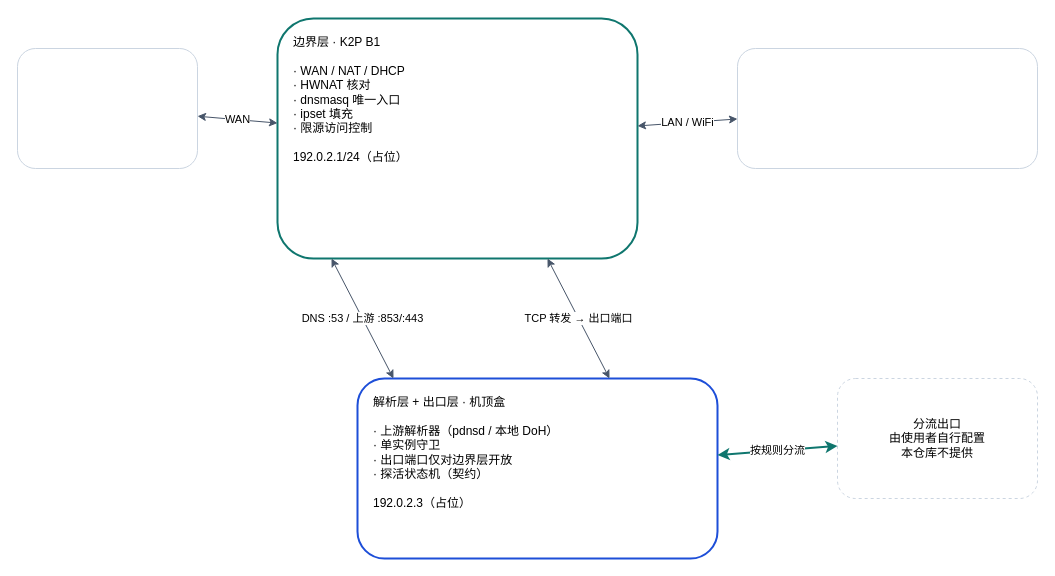
Some shapes in this 1055 by 576 pixel diagram are drawn without their labels. The shapes that lost their labels are listed below. From the top down, each one's centre as x and y in pixels, then its label:
pixel 107 108: 上游 / 光猫 PPPoE 或 DHCP 0.0.0.0/0
pixel 887 108: 终端 有线 / 2.4G / 5G 网关与 DNS 均指向 192.0.2.1
